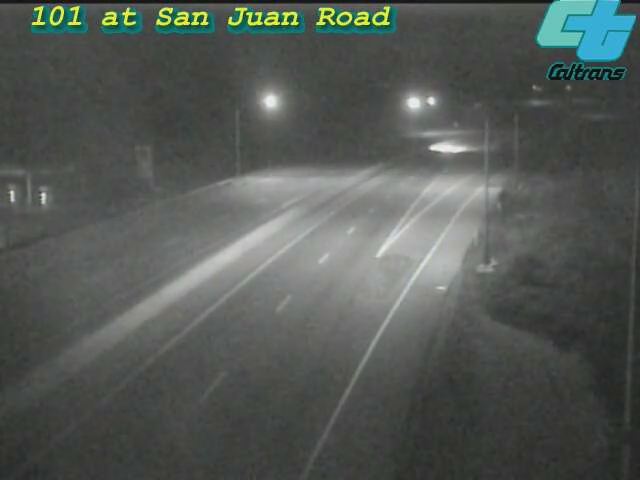vehicle: (424, 123, 474, 173)
